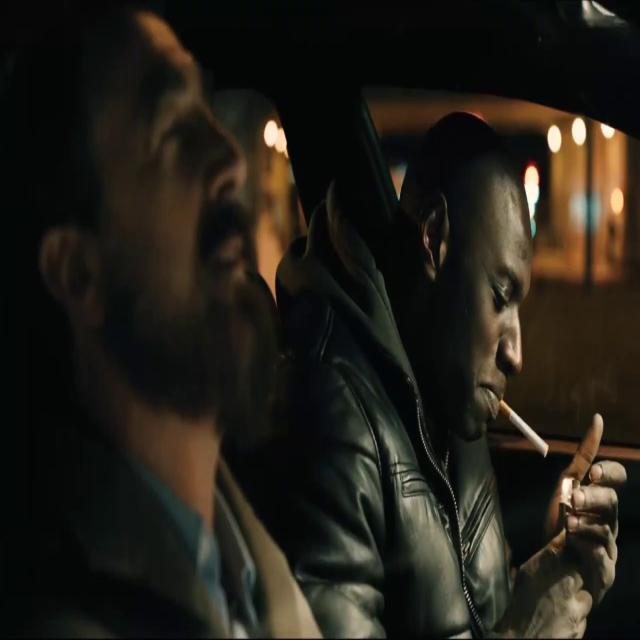Smooking: (498, 384, 558, 469)
